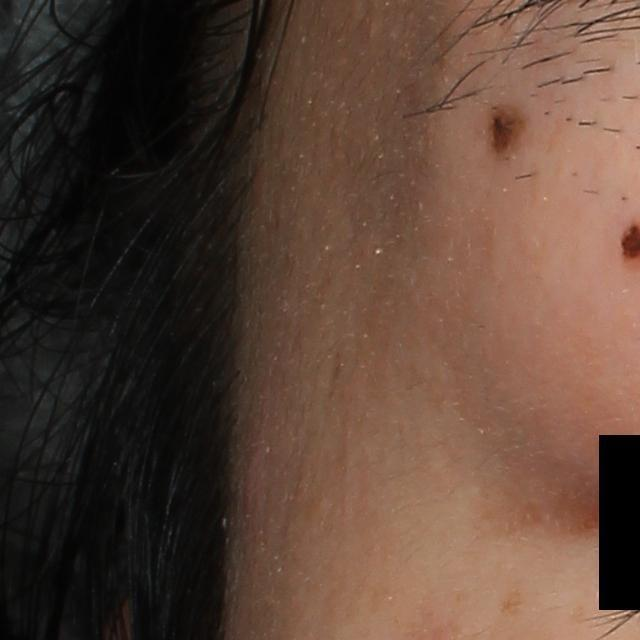nevus: (486, 105, 526, 166)
